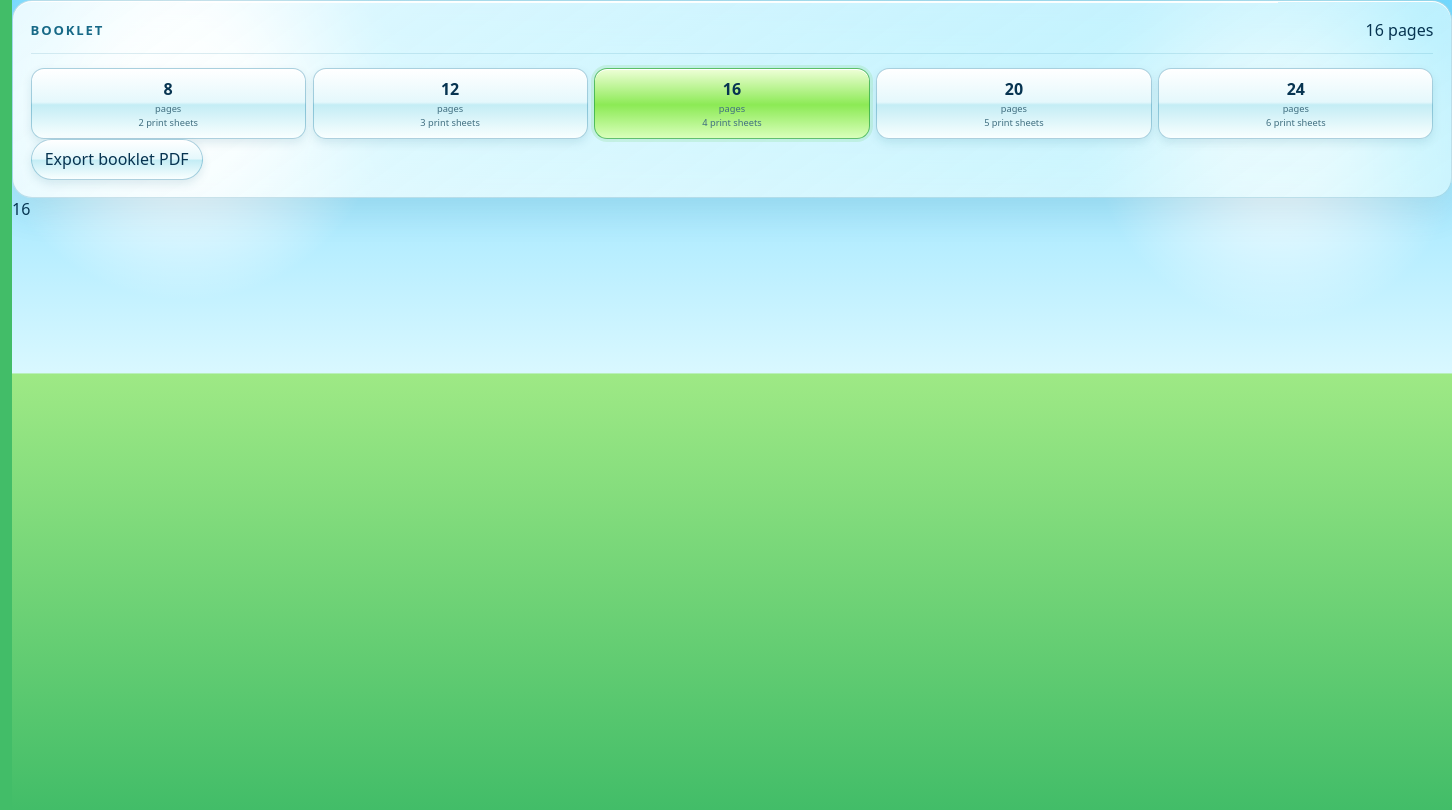
booklet rules › shows a cancelled save dialog as a neutral note, not an error
Click the button with test id "export-booklet" at (117, 159), box [31, 139, 203, 180]
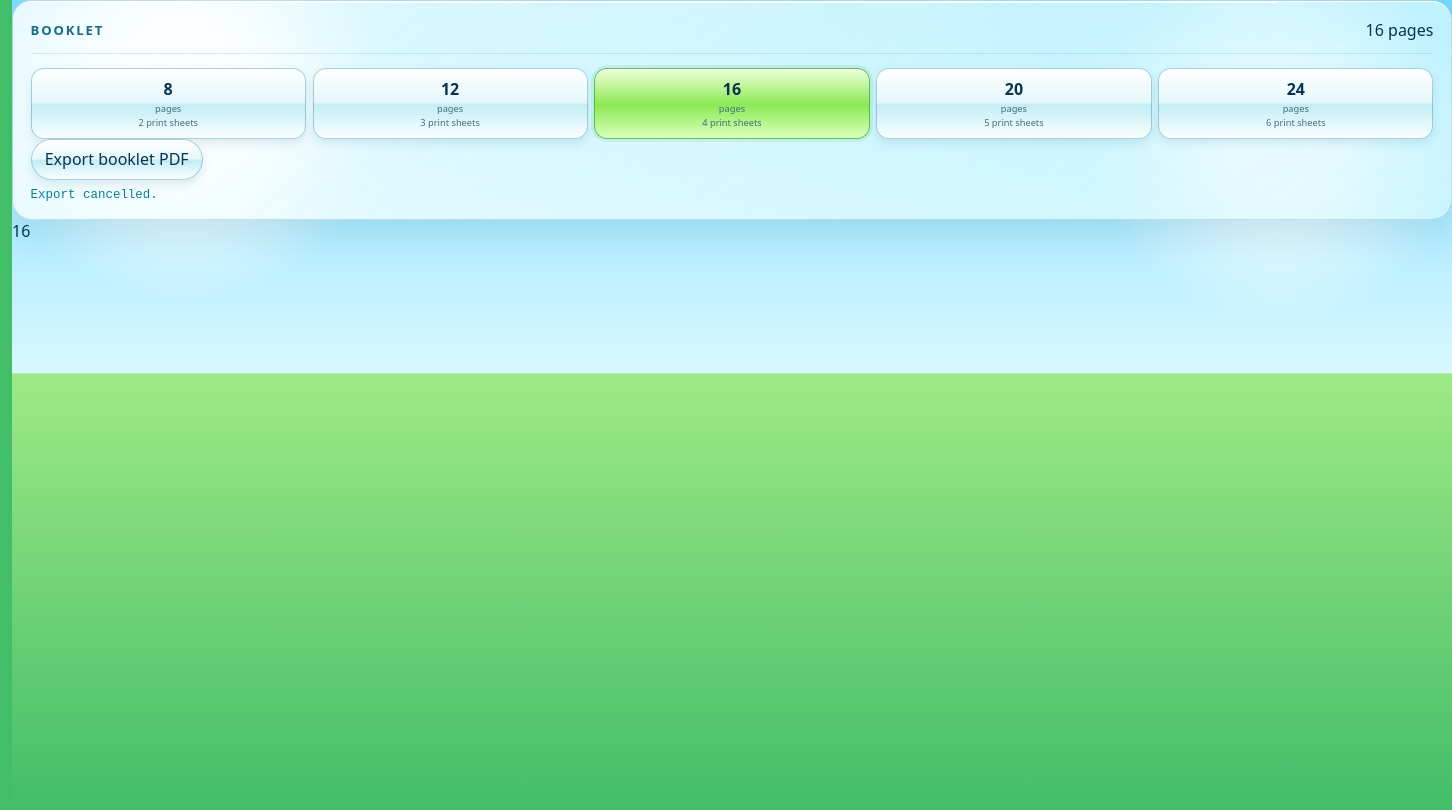
Check: the message with test id "export-message" does not show "failed", box [31, 188, 158, 202]
Check: the message with test id "export-message" reads "Export cancelled.", box [31, 188, 158, 202]
